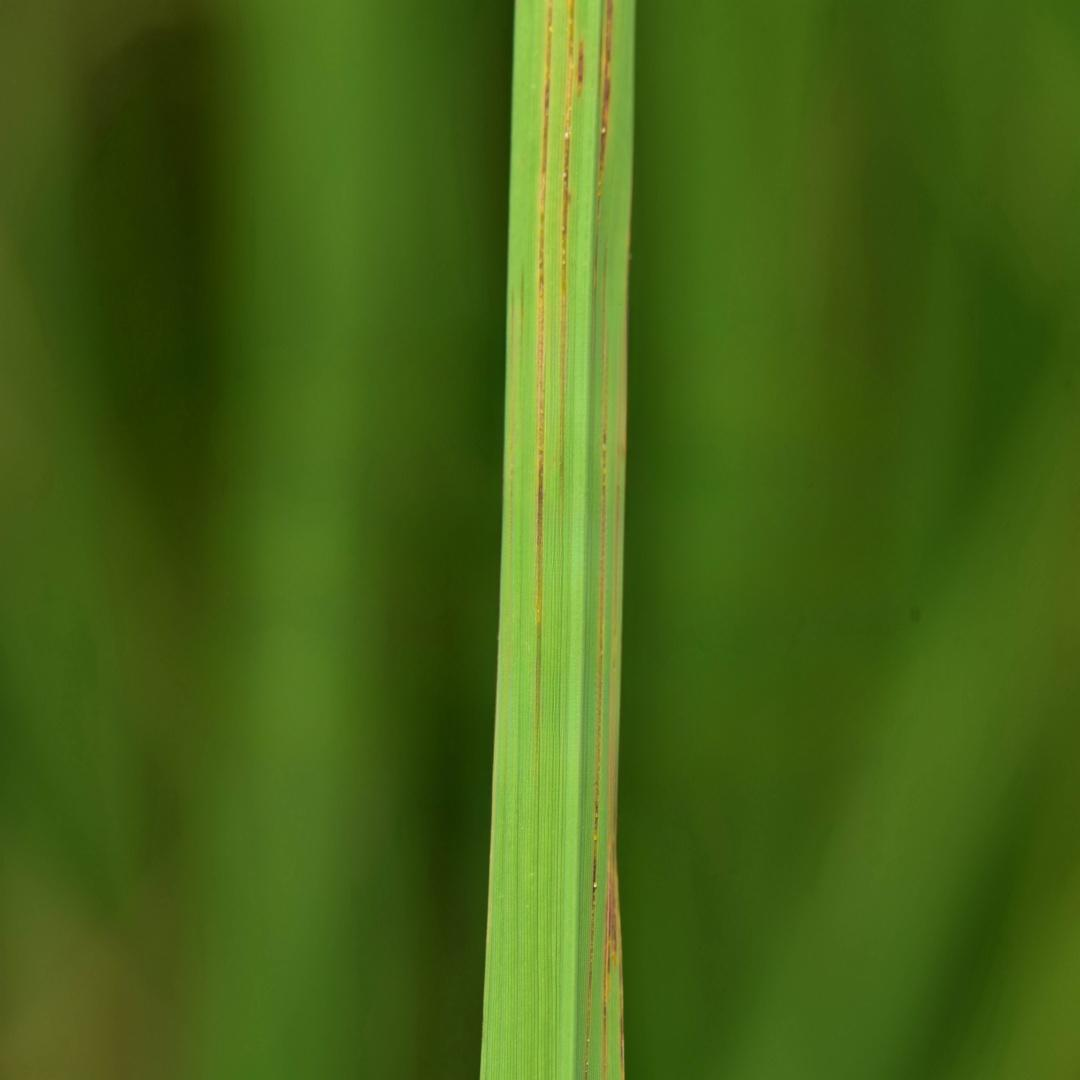BLS: (585, 246, 607, 1079), (603, 439, 625, 1079), (536, 0, 553, 750), (560, 0, 576, 510), (594, 0, 613, 290), (518, 265, 522, 382), (577, 43, 583, 97)
